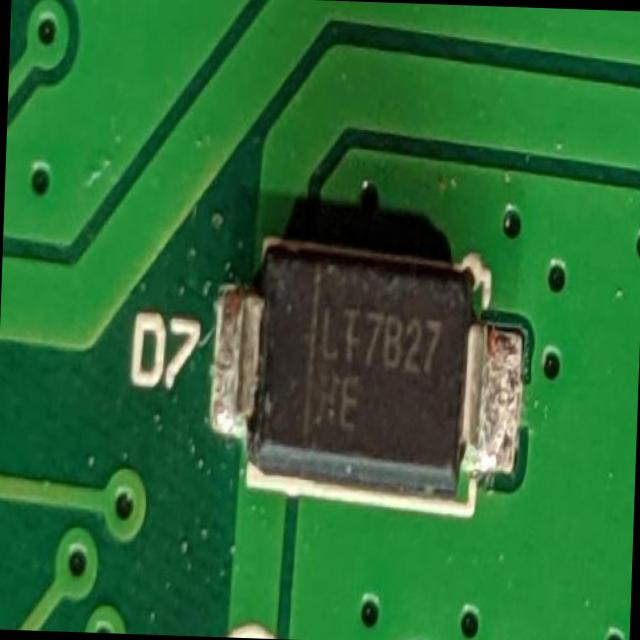diode: (238, 240, 497, 503)
